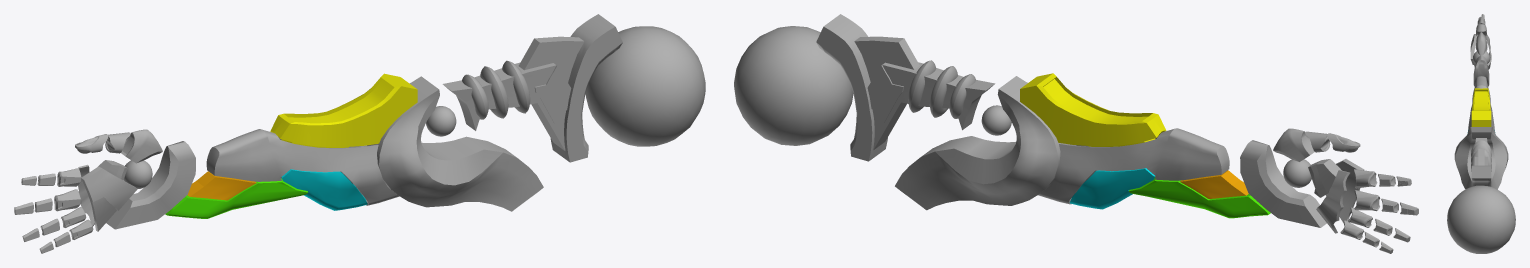
The model's file is GunArmStaticMesh.fbx.
3 renders of one model, left to right at view 1: azimuth 30°, elevation 25°; view 2: azimuth 150°, elevation 25°; view 3: azimuth 270°, elevation 25°, orthographic. The views are drawn at different scales.
Parts seen in each view (by area): view 1: WholeArm; view 2: WholeArm; view 3: WholeArm.
Part boxes in pixels (bbox=[...]): WholeArm: bbox=[14, 14, 705, 253]; WholeArm: bbox=[734, 14, 1418, 253]; WholeArm: bbox=[1447, 14, 1515, 253].
Bounding box in the file's own units: 64.81 × 15.62 × 9.96.
